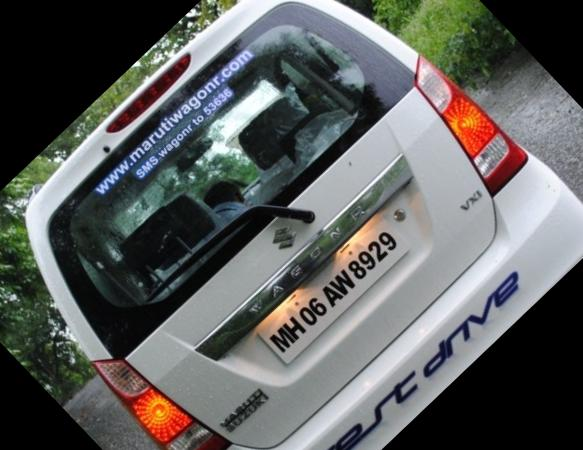plate: (235, 180, 443, 383)
